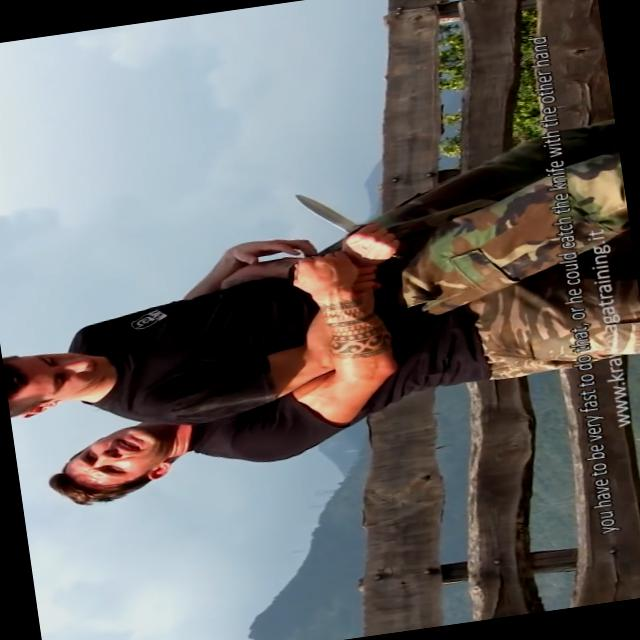knife: (286, 174, 402, 274)
